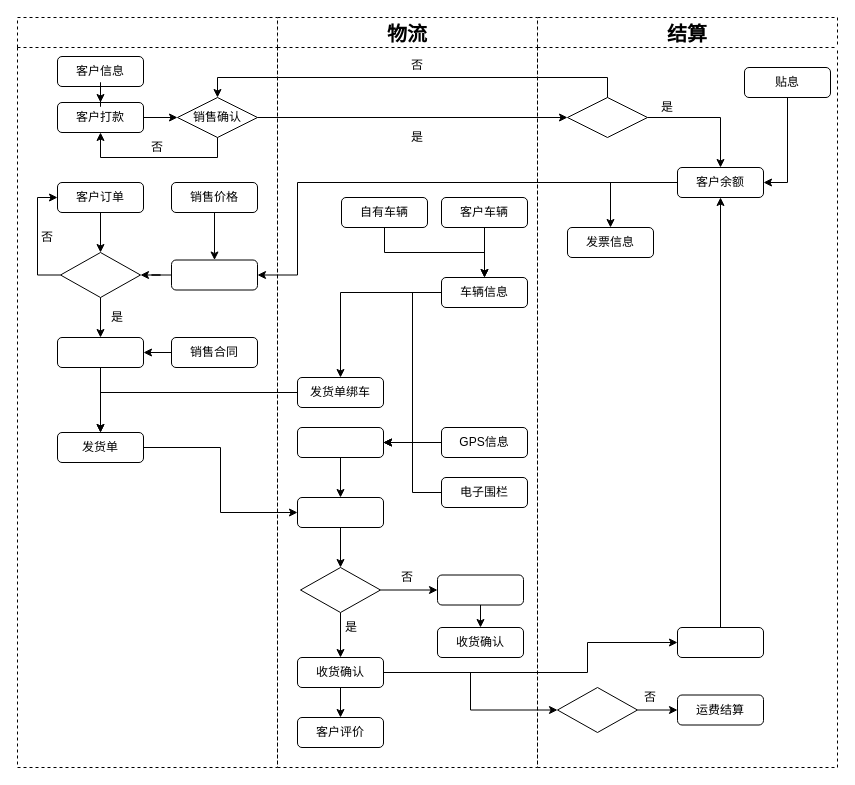
Some shapes in this 855 by 785 pixel diagram are drawn without their labels. The box of each missing label's shape, as (x1, y1, x2, y2) in pixels:
倒运: (436, 574, 524, 605)
可提量充足: (60, 252, 140, 298)
客户可提量: (170, 259, 258, 290)
客户确认收货: (300, 566, 380, 612)
客户自提: (556, 686, 638, 732)
订单结算: (676, 626, 764, 658)
财务确认: (566, 96, 648, 138)
车辆调度: (296, 426, 384, 458)
车辆运输: (296, 496, 384, 528)
销售: (16, 16, 278, 768)
销售订单: (56, 336, 144, 368)
